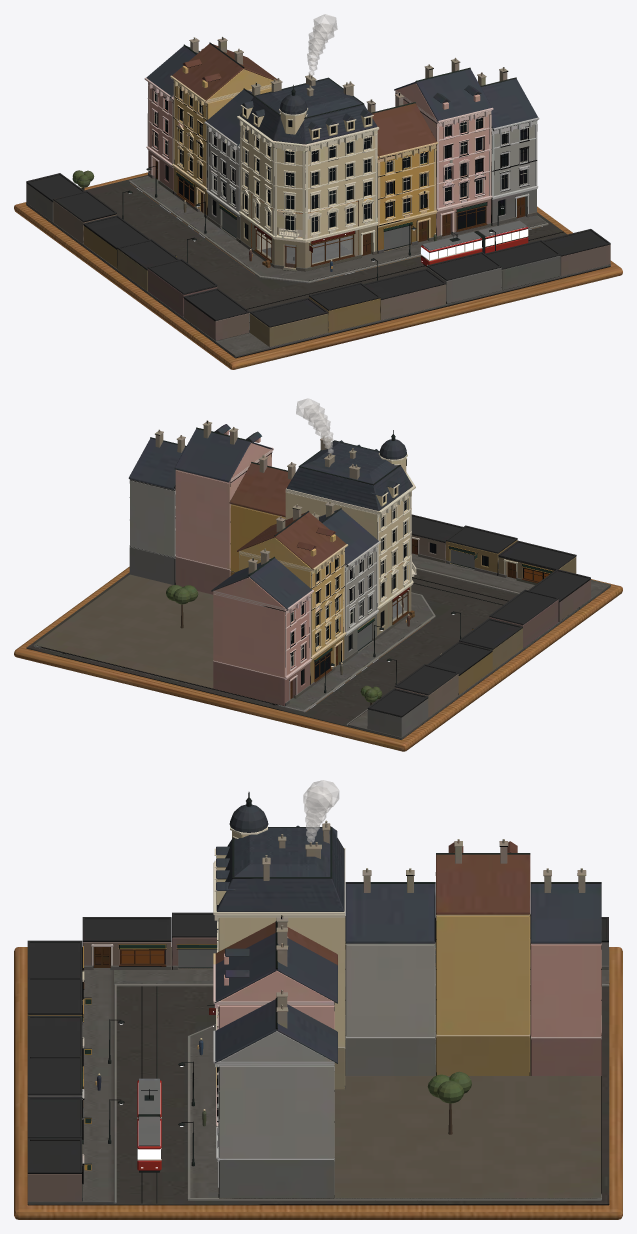
The model's file is grad-m.glb.
The picture shows the model from 3 angles, top to bottom: view 1: azimuth 30°, elevation 25°; view 2: azimuth 150°, elevation 25°; view 3: azimuth 270°, elevation 25°; orthographic projection. The views are drawn at different scales.
Visible parts, largest first — view 1: Tlo, Ugao, A2, A1, B2, A3, Kriska, B1, B3, NS1, NS3, NS4 (+12 smaller); view 2: Tlo, B3, Ugao, A2, B2, A3, B1, A1, NS2, NZ6, NS1, NZ2 (+6 smaller); view 3: Tlo, A3, B2, B1, Ugao, B3, A2, NZ1, NS6, NZ2, NS5, NS4 (+7 smaller).
Part boxes in pixels (box(x1,y1,x2,y2)): Tlo: box(14, 160, 622, 369); Ugao: box(237, 74, 379, 267); A2: box(394, 57, 493, 239); A1: box(364, 92, 438, 253); B2: box(170, 36, 277, 218); A3: box(450, 67, 539, 225); Kriska: box(250, 194, 359, 271); B1: box(204, 82, 305, 242); B3: box(144, 37, 202, 193); NS1: box(250, 297, 328, 347); NS3: box(363, 268, 446, 320); NS4: box(427, 252, 501, 303); Tlo: box(14, 545, 622, 751); B3: box(211, 548, 313, 706); Ugao: box(285, 430, 415, 638); A2: box(174, 420, 273, 594); B2: box(237, 504, 348, 687); A3: box(128, 429, 186, 584); B1: box(312, 501, 380, 662); A1: box(229, 455, 296, 575); NS2: box(446, 525, 517, 575); NZ6: box(367, 688, 428, 737); NS1: box(498, 540, 576, 584); NZ2: box(489, 589, 558, 647); Tlo: box(14, 947, 622, 1219); A3: box(213, 990, 337, 1198); B2: box(435, 839, 530, 1075); B1: box(345, 868, 435, 1075); Ugao: box(213, 792, 345, 1089); B3: box(530, 868, 601, 1075); A2: box(213, 925, 337, 1126); NZ1: box(82, 917, 171, 969); NS6: box(27, 1138, 91, 1201); NZ2: box(172, 912, 218, 969); NS5: box(27, 1097, 91, 1153); NS4: box(27, 1056, 84, 1119).
Size of the model in its own units: 59.9 by 33 by 57.9.
13 materials, 6 textured.
